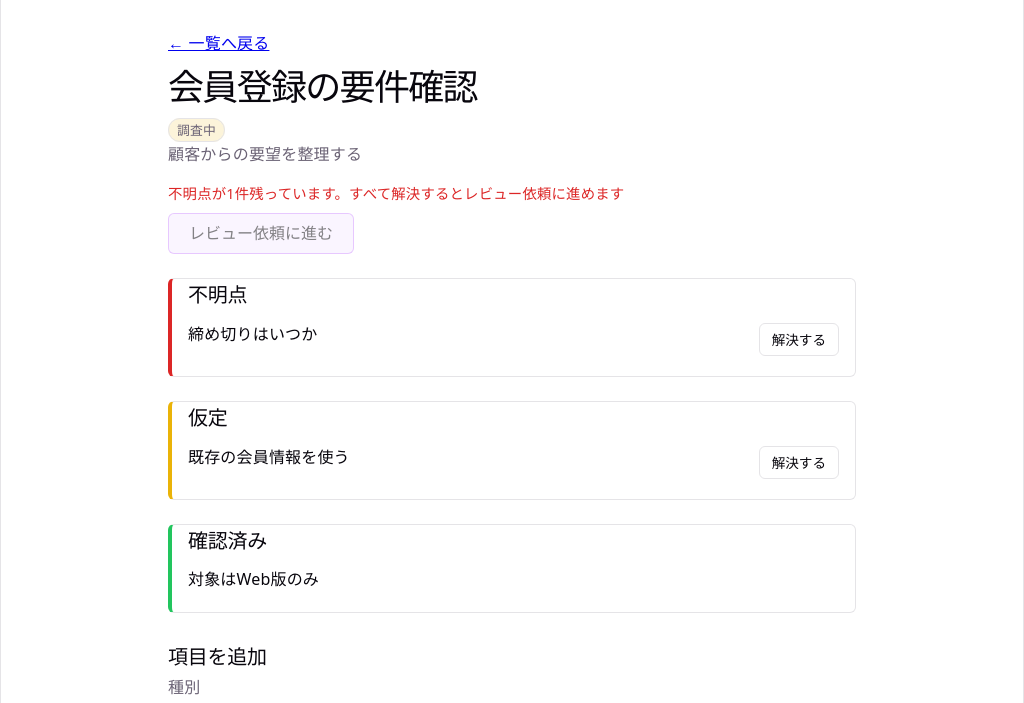
Test: 項目の解決 › 根拠を付けて解決すると、項目が確認済みの欄へ移る
Click the button "解決する" in the row of "締め切りはいつか". click: click(799, 339)
box: [759,323,839,356]
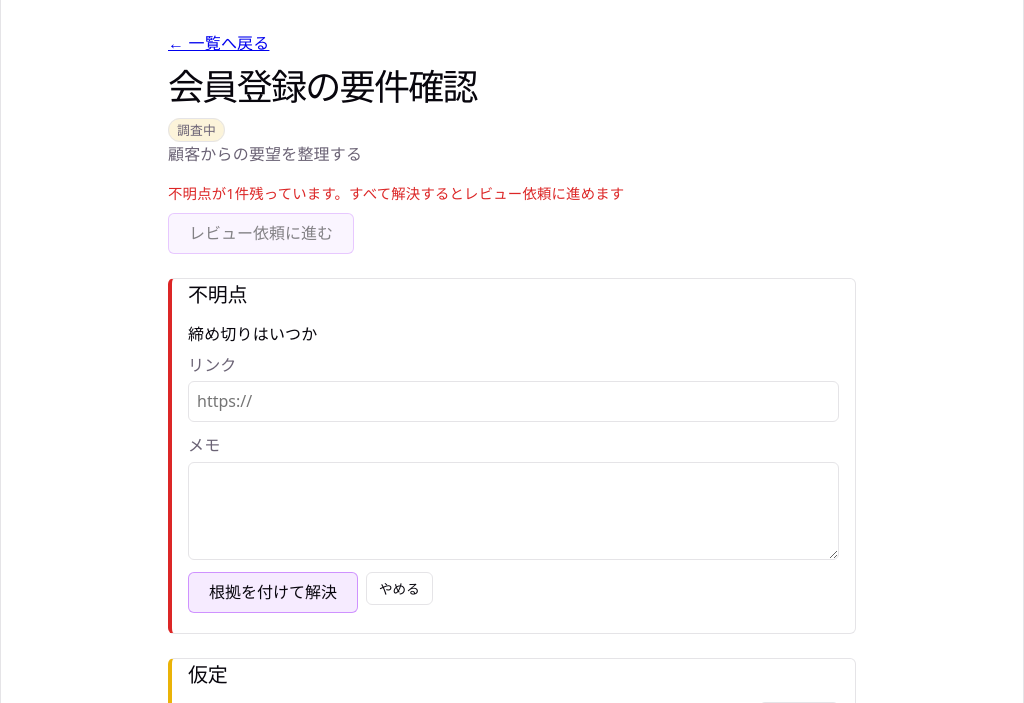
Type "11月末と顧客に確認した" into the text box labelled "メモ". click: (514, 511)
box: [188,462,839,560]
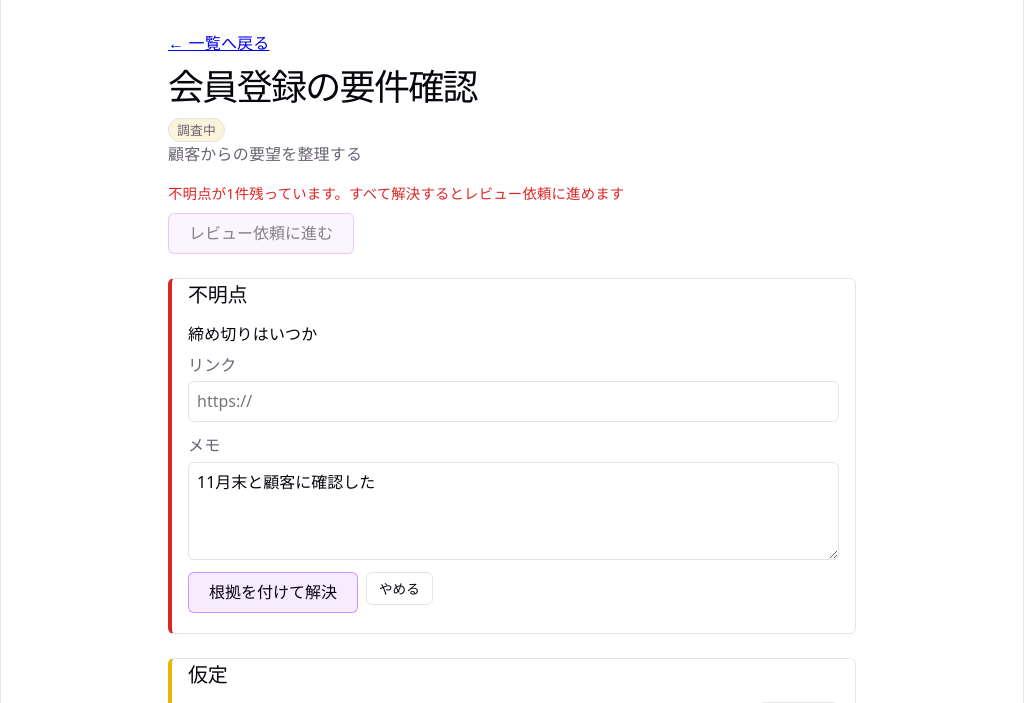
Click the button "根拠を付けて解決". click: click(273, 592)
box: [188,572,358,613]
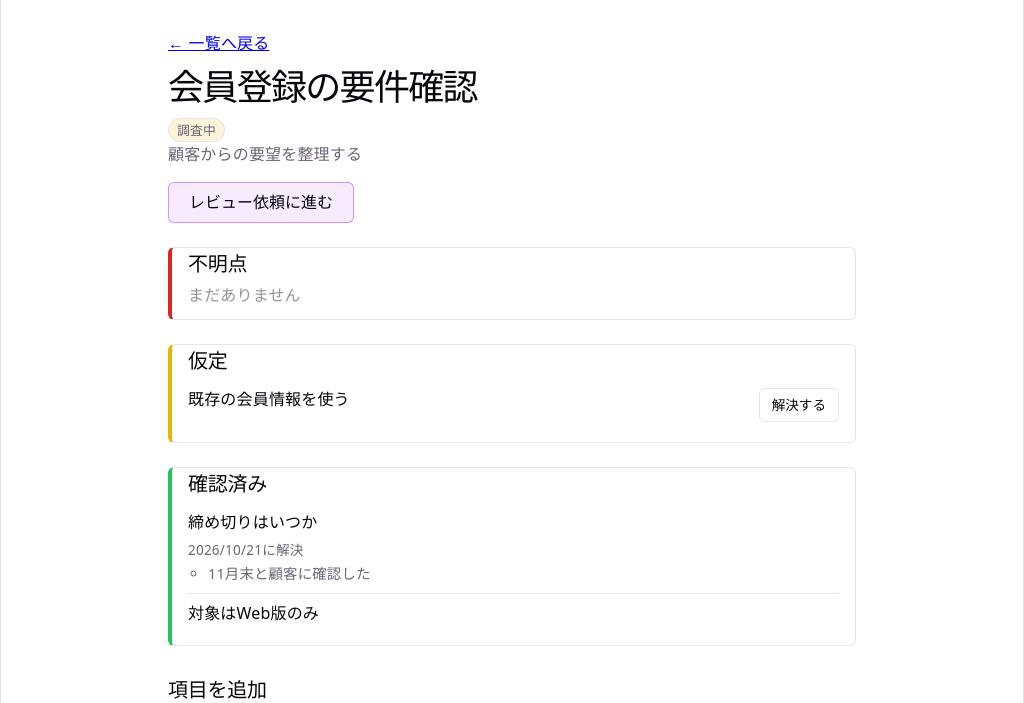
Check: the text "締め切りはいつか" is shown, box [188,511,318,534]
Check: the text "11月末と顧客に確認した" is shown, box [208,564,370,583]
